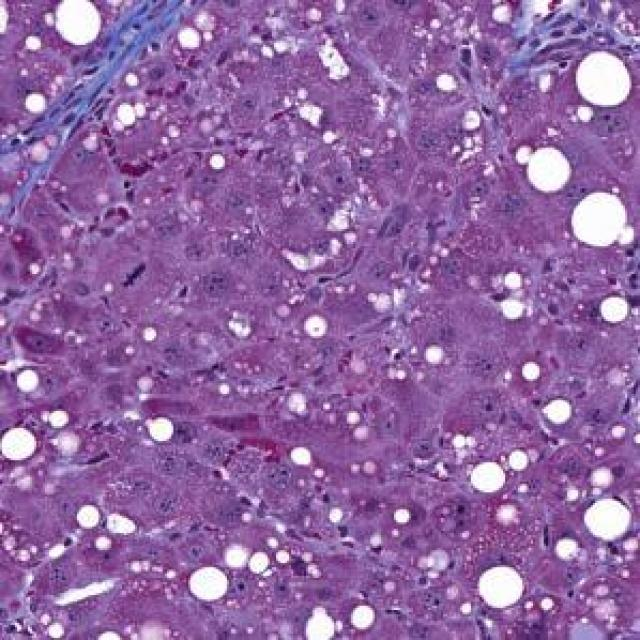fibrosis: (15, 21, 167, 178)
